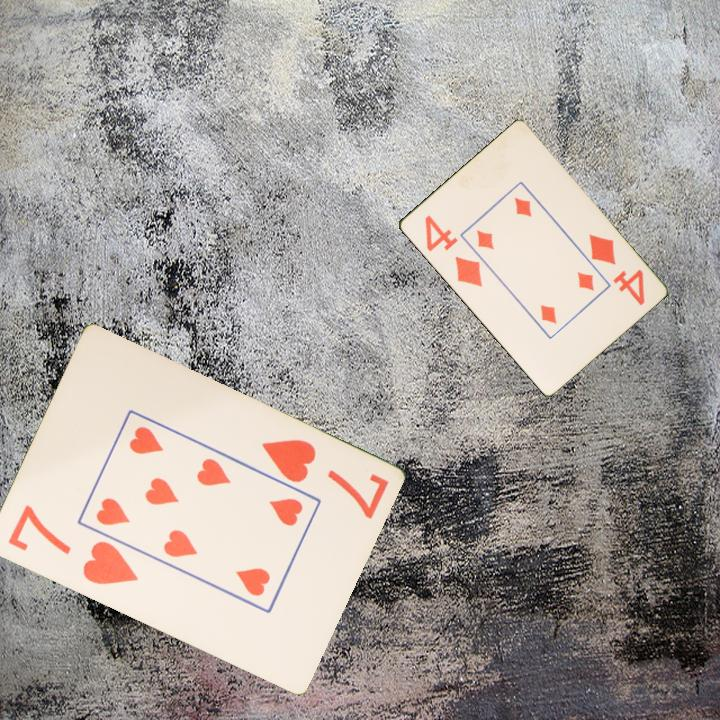4d: (421, 212, 485, 290), (585, 230, 648, 309)
7h: (3, 501, 141, 589), (257, 435, 391, 521)
